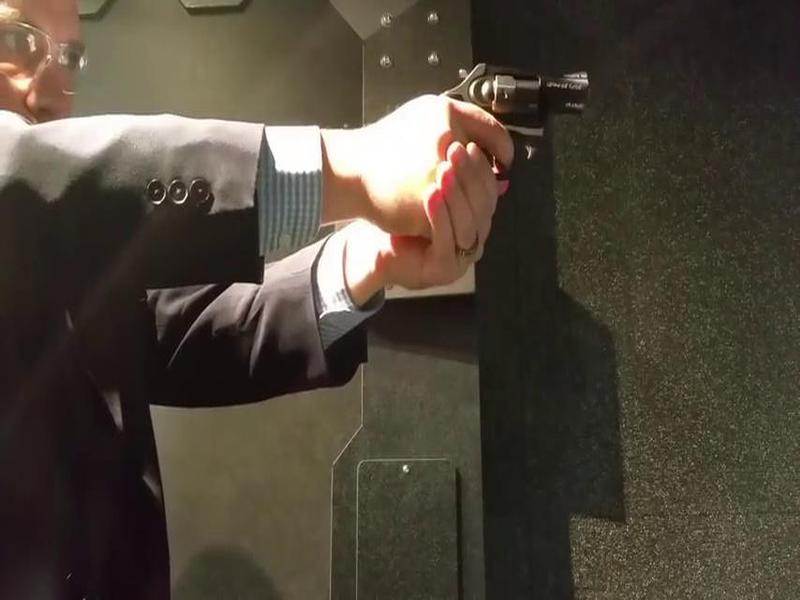Revolver: (420, 54, 601, 176)
